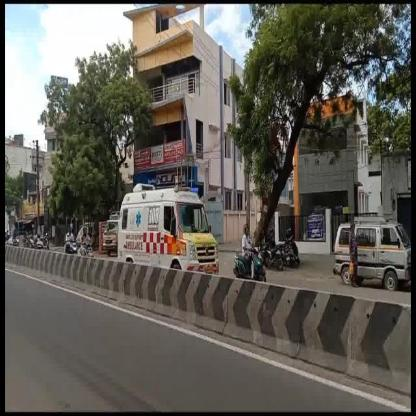priority: (118, 181, 224, 273)
